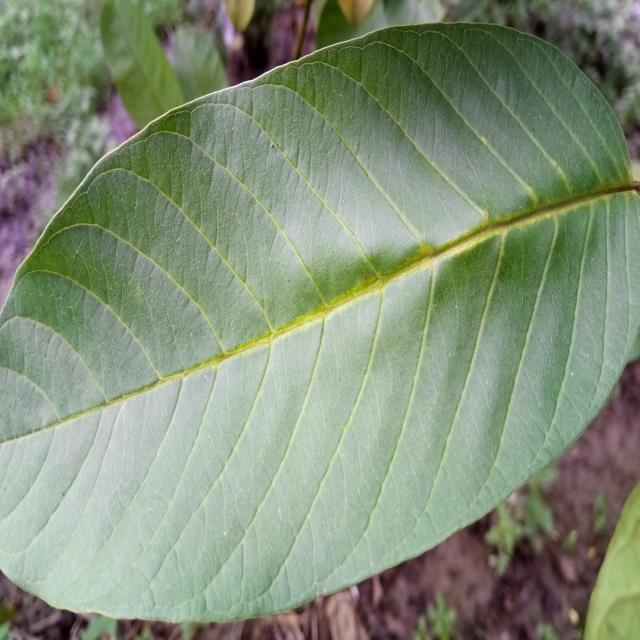Disease Free: (0, 24, 640, 620)
